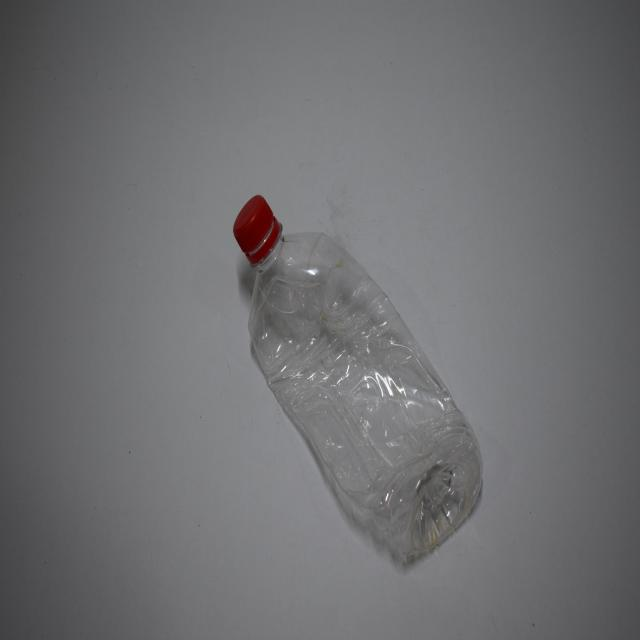bottle: (216, 188, 504, 578)
